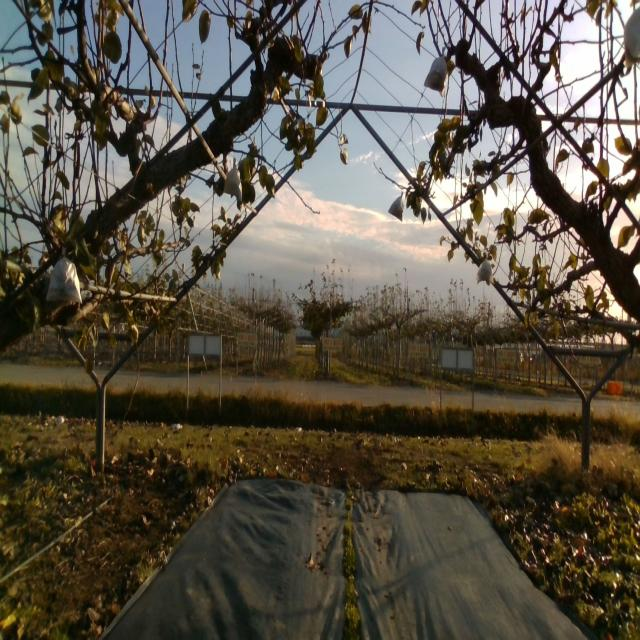pearbags: (45, 244, 82, 308), (424, 57, 449, 96), (223, 156, 245, 199), (475, 254, 495, 282), (389, 190, 404, 220)
